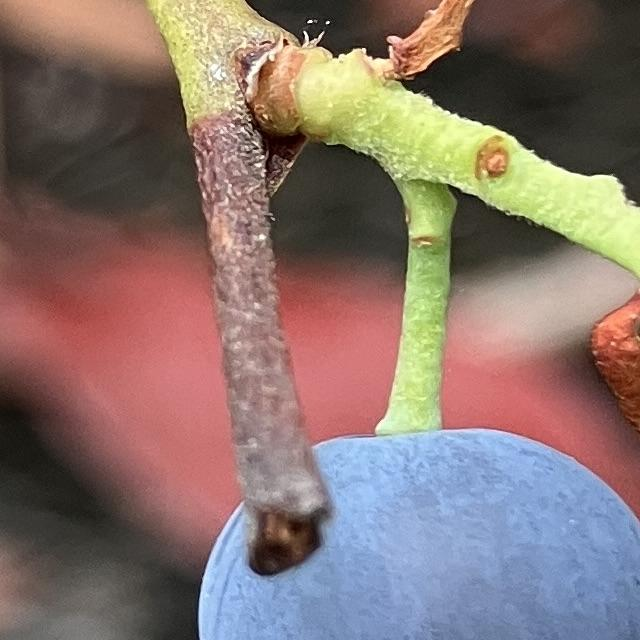Blueberries: (194, 399, 640, 640)
